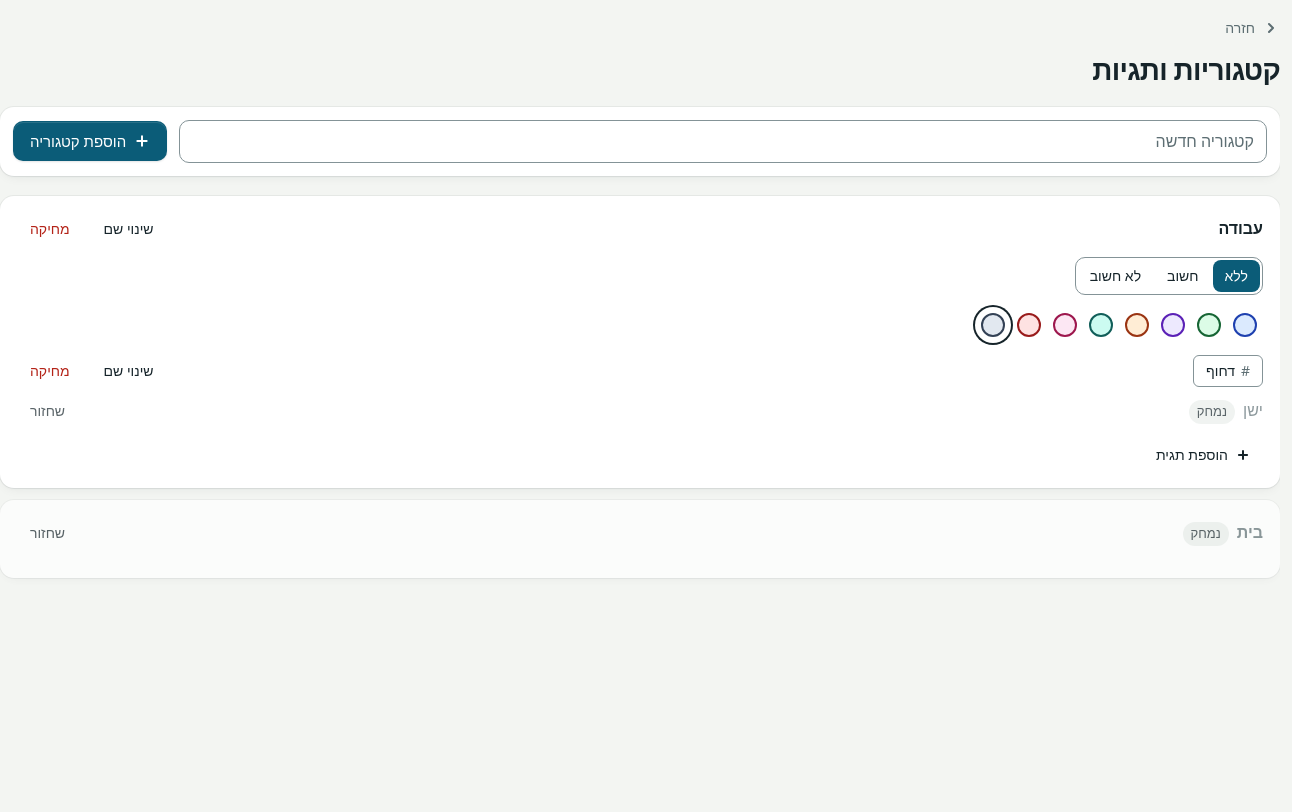
Test: TaxonomyScreen › shows the name-exists error on a 409 and does not refresh
Check: the heading "עבודה" is shown, box top-left (1218, 216), bottom-right (1263, 241)
Type "עבודה" into the field labelled "קטגוריה חדשה".
click(723, 141); type("עבודה")  # box top-left (179, 120), bottom-right (1267, 163)
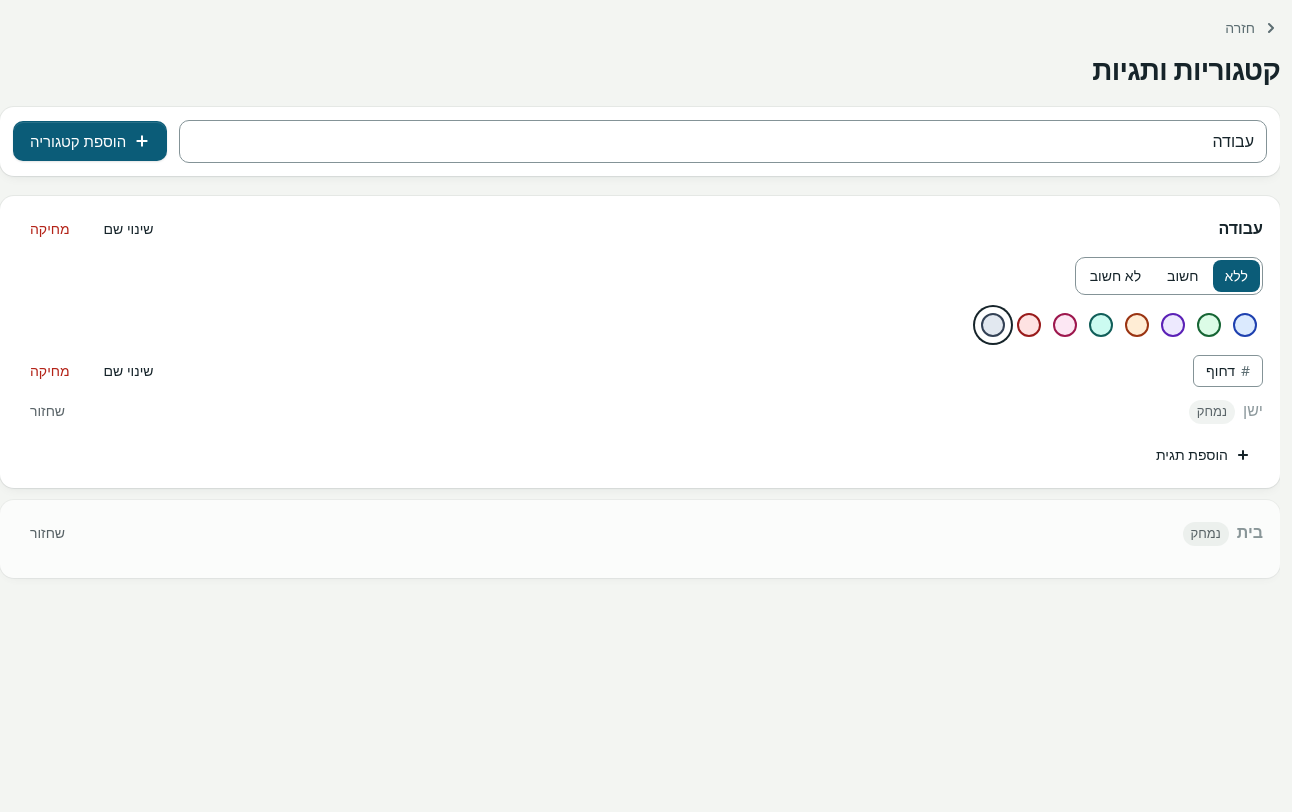
Click the button "הוספת קטגוריה".
click(90, 141)  # box top-left (13, 121), bottom-right (167, 161)
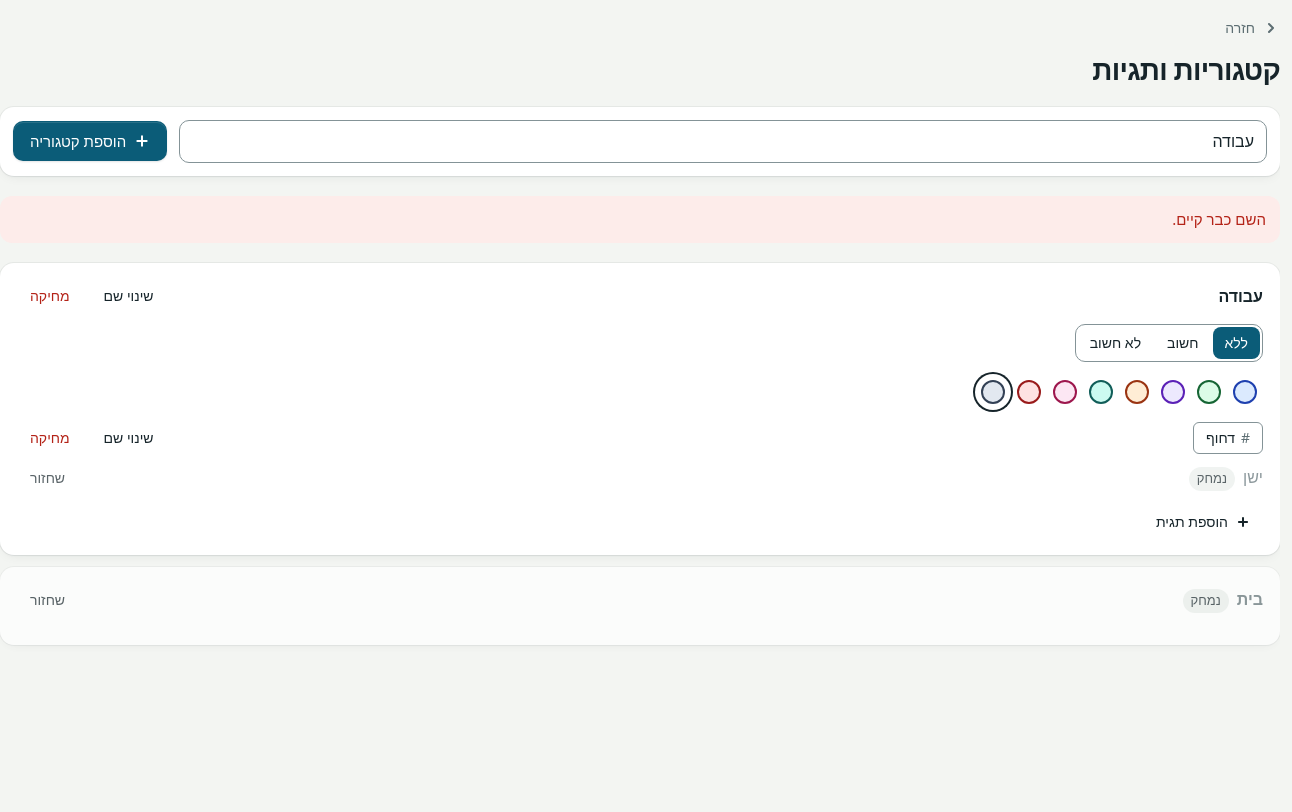
Check: the message reads "השם כבר קיים.", box top-left (1172, 209), bottom-right (1266, 229)
